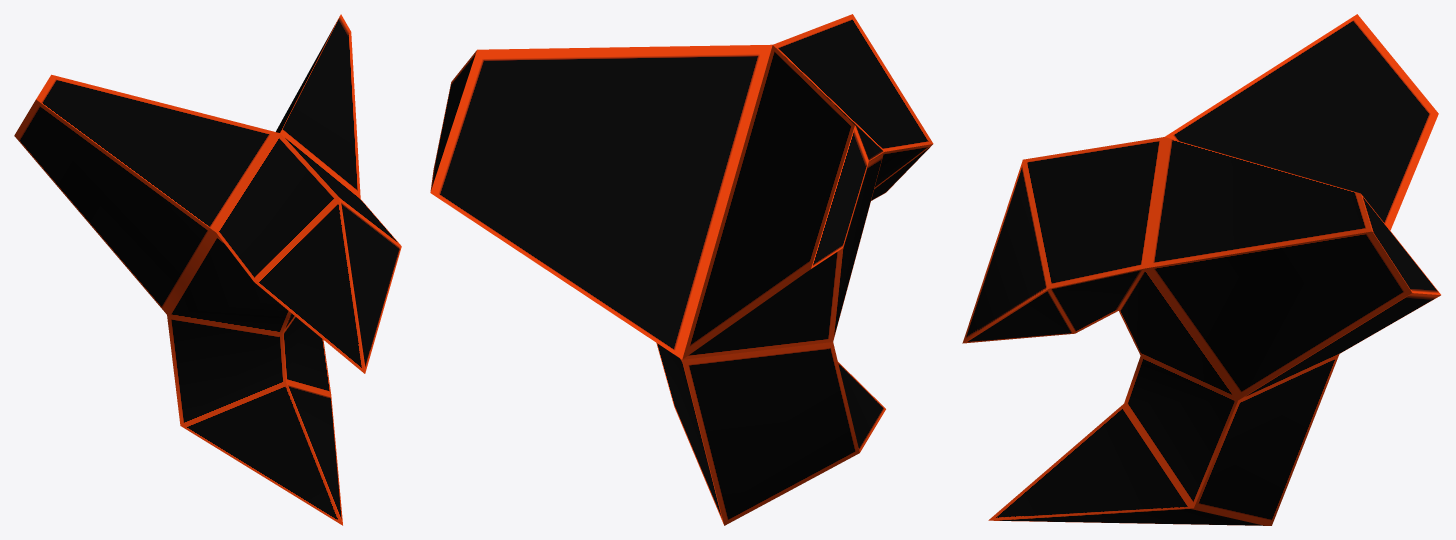
Rendered from Bee.fbx.
3 views of the same model, side by side, from view 1: azimuth 30°, elevation 25°; view 2: azimuth 150°, elevation 25°; view 3: azimuth 270°, elevation 25° (orthographic). The views are drawn at different scales.
Parts seen in each view (by area): view 1: pPyramid1; view 2: pPyramid1; view 3: pPyramid1.
Boxes of the visible parts, box(x1,y1,x2,y2) form: pPyramid1: box(14, 14, 401, 525); pPyramid1: box(430, 14, 933, 525); pPyramid1: box(962, 14, 1440, 525).
Bounding box in the file's own units: 1.42 × 1.57 × 1.57.
Materials: 1 (1 with a texture image).
